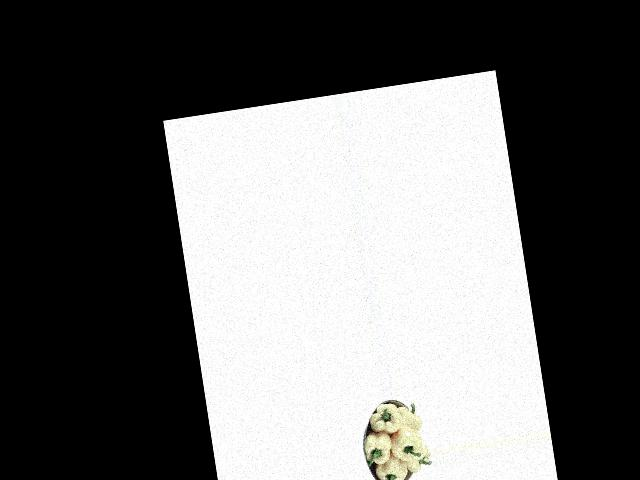bell_pepper: (401, 444, 433, 477)
